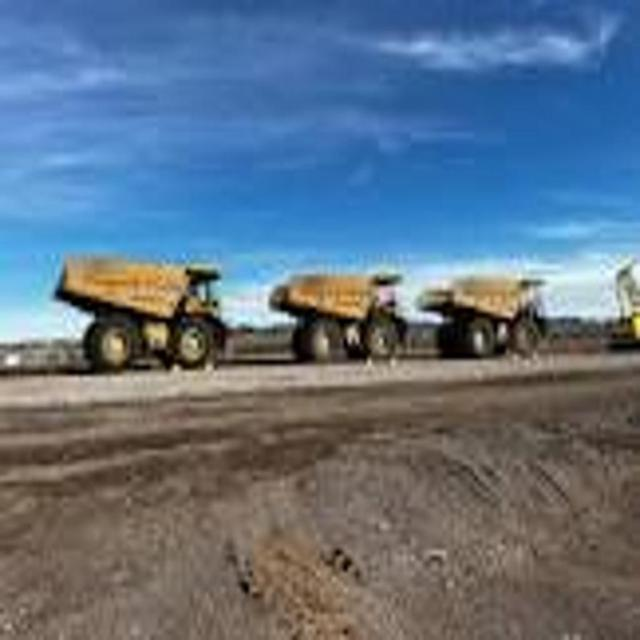dump_truck: (58, 237, 232, 385), (268, 251, 410, 379), (416, 275, 552, 368)
